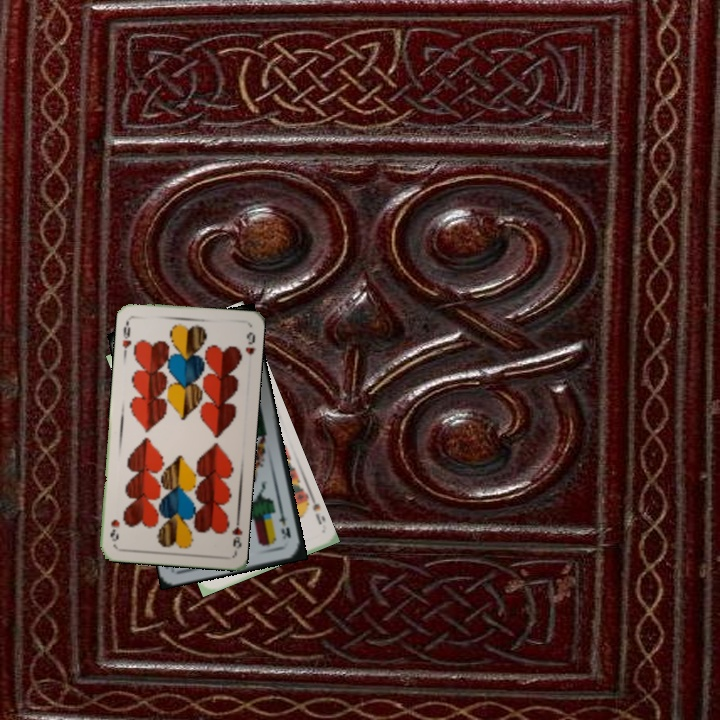EK: (275, 505, 293, 541)
H9: (228, 514, 245, 554), (118, 317, 134, 357)
S9: (298, 493, 327, 527)
